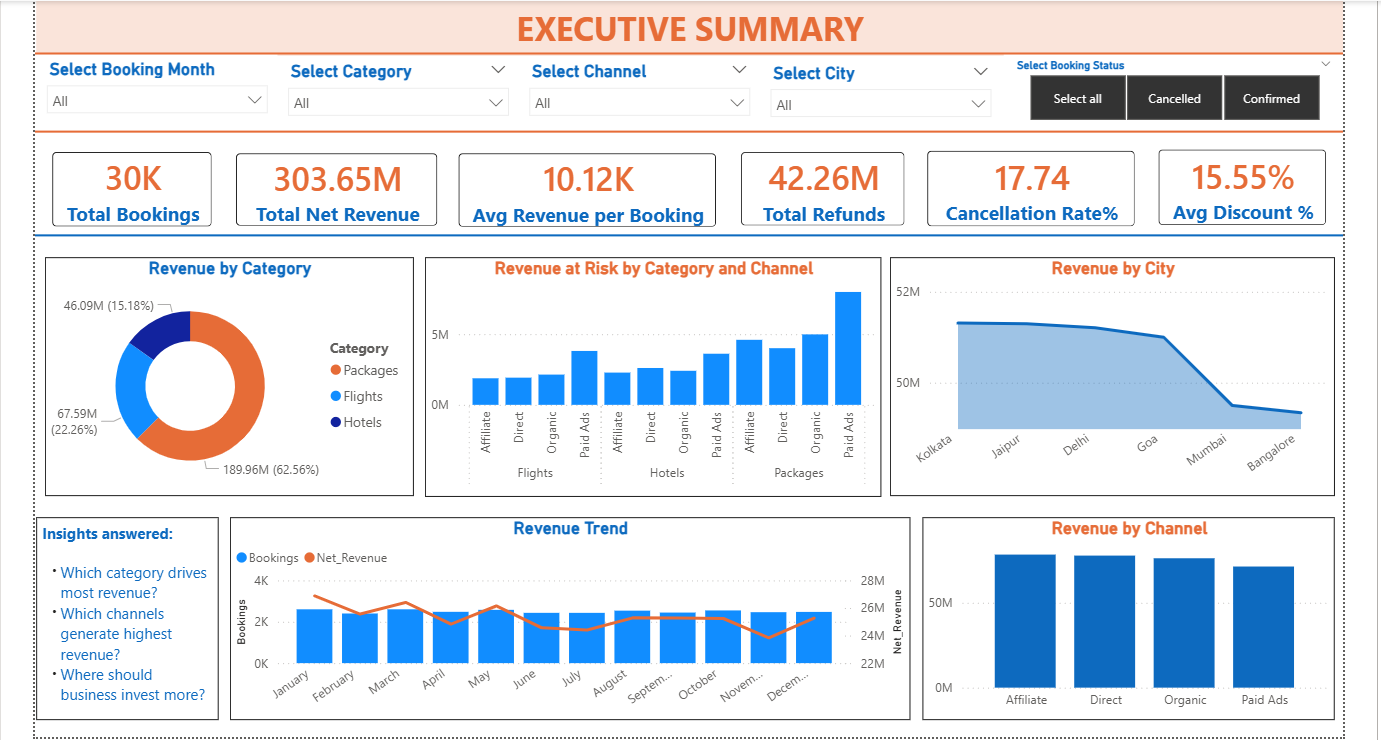

This screenshot's page, from the dashboard's own definition file:
{"tool":"powerbi","page":{"name":"Executive Summary","canvas":[1280,720],"ordinal":1},"visuals":[{"type":"cardVisual","fields":{"Data":["CountNonNull(Bookings_Data.Booking_ID)"]},"box":[0,130.8,190.8,107.6],"z":0},{"type":"columnChart","title":"Revenue by Channel","fields":{"Y":["Sum(Bookings_Data.Net_Revenue)"],"Category":["Bookings_Data.Channel"]},"box":[868.2,505,403.5,198.1],"z":1000},{"type":"textbox","box":[1.2,0,1279.1,53.8],"z":2000},{"type":"cardVisual","fields":{"Data":["Sum(Bookings_Data.Net_Revenue)"]},"box":[179.8,132.1,231.1,105.2],"z":3000},{"type":"cardVisual","fields":{"Data":["Avg(Bookings_Data.Discount_%)"]},"box":[1082.2,128.4,198.1,108.8],"z":4000},{"type":"cardVisual","fields":{"Data":["Bookings_Data.Cancellation Rate"]},"box":[856,129.6,237.2,108.8],"z":5000},{"type":"cardVisual","fields":{"Data":["Bookings_Data.Avg Revenue per Booking"]},"box":[397.4,132.1,286.1,106.4],"z":6000},{"type":"donutChart","title":"Revenue by Category","fields":{"Category":["Bookings_Data.Category"],"Y":["Sum(Bookings_Data.Net_Revenue)"]},"box":[9.8,250.7,360.7,233.6],"z":7000},{"type":"lineClusteredColumnComboChart","title":"Revenue Trend","fields":{"Category":["Bookings_Data.Booking_Date.Variation.Date Hierarchy.Month"],"Y":["CountNonNull(Bookings_Data.Booking_ID)"],"Y2":["Sum(Bookings_Data.Net_Revenue)"]},"box":[190.8,505,665.2,198.1],"z":8000},{"type":"areaChart","title":"Revenue by City","fields":{"Category":["Bookings_Data.City"],"Y":["Sum(Bookings_Data.Net_Revenue)"]},"box":[836.4,250.7,435.3,233.6],"z":9000},{"type":"cardVisual","fields":{"Data":["Sum(Bookings_Data.Refund_Amount)"]},"box":[673.8,130.8,194.4,106.4],"z":10000},{"type":"textbox","box":[1.2,505,178.5,198.1],"z":11000},{"type":"slicer","fields":{"Values":["Bookings_Data.Booking_Date.Variation.Date Hierarchy.Month"]},"box":[1.2,51.4,236,72.1],"z":12000},{"type":"slicer","fields":{"Values":["Bookings_Data.Category"]},"box":[237.2,53.8,236,72.1],"z":13000},{"type":"slicer","fields":{"Values":["Bookings_Data.Channel"]},"box":[473.2,53.8,236,72.1],"z":14000},{"type":"slicer","fields":{"Values":["Bookings_Data.City"]},"box":[709.2,55,236,72.1],"z":15000},{"type":"slicer","fields":{"Values":["Bookings_Data.Booking_Status"]},"box":[947.7,51.4,332.6,72.1],"z":16000},{"type":"shape","box":[0,123.5,1280.3,8.6],"z":17000},{"type":"shape","box":[0,40.4,1280.3,22],"z":18000},{"type":"shape","box":[0,221.3,1280.3,15.9],"z":19000},{"type":"columnChart","fields":{"Y":["Bookings_Data.Revenue at Risk"],"Category":["Bookings_Data.Category","Bookings_Data.Channel"]},"box":[381.5,250.7,446.3,234.8],"z":20000}]}

Visuals, with their boxes on the page's 1280x720 design canvas (x1, y1, x2, y2). These are canvas units, not pixel positions in the 1381x740 screenshot, which may show the page scaled, cropped or inside an application window:
cardVisual - CountNonNull(Bookings_Data.Booking_ID): 0 131 191 238
"Revenue by Channel" columnChart: 868 505 1272 703
textbox: 1 0 1280 54
cardVisual - Sum(Bookings_Data.Net_Revenue): 180 132 411 237
cardVisual - Avg(Bookings_Data.Discount_%): 1082 128 1280 237
cardVisual - Bookings_Data.Cancellation Rate: 856 130 1093 238
cardVisual - Bookings_Data.Avg Revenue per Booking: 397 132 684 238
"Revenue by Category" donutChart: 10 251 370 484
"Revenue Trend" lineClusteredColumnComboChart: 191 505 856 703
"Revenue by City" areaChart: 836 251 1272 484
cardVisual - Sum(Bookings_Data.Refund_Amount): 674 131 868 237
textbox: 1 505 180 703
slicer - Bookings_Data.Booking_Date.Variation.Date Hierarchy.Month: 1 51 237 124
slicer - Bookings_Data.Category: 237 54 473 126
slicer - Bookings_Data.Channel: 473 54 709 126
slicer - Bookings_Data.City: 709 55 945 127
slicer - Bookings_Data.Booking_Status: 948 51 1280 124
shape: 0 124 1280 132
shape: 0 40 1280 62
shape: 0 221 1280 237
columnChart - Bookings_Data.Revenue at Risk x Bookings_Data.Category: 382 251 828 486
